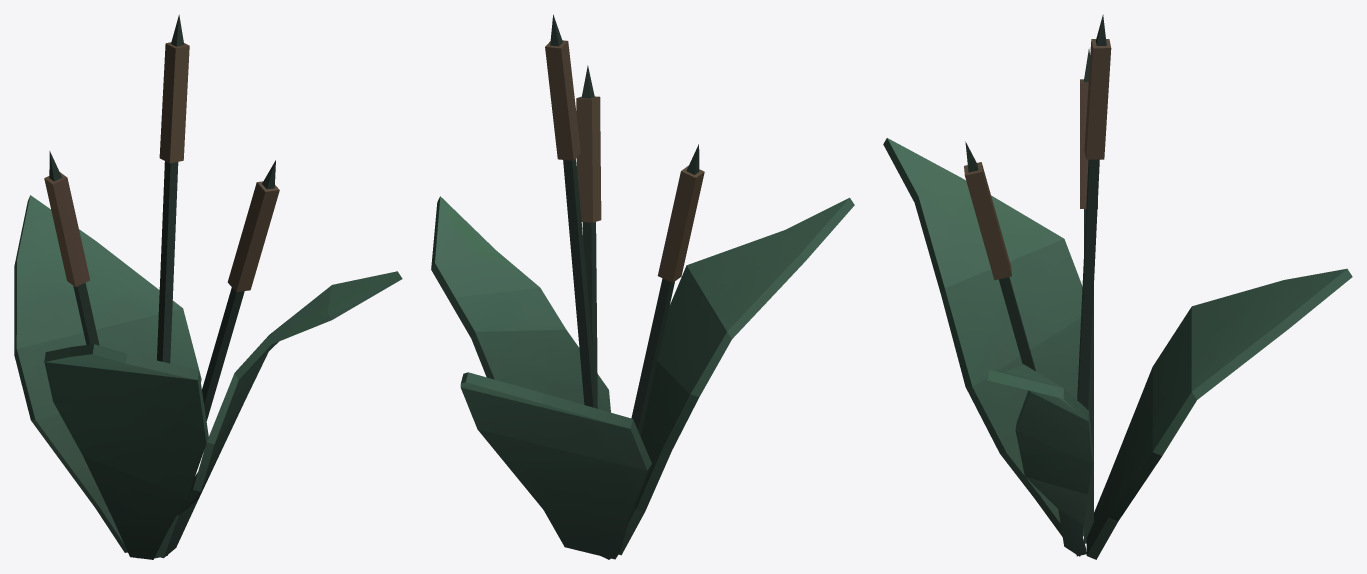
Rendered from SM_Reeds_01.fbx.
3 views of the same model, side by side, from view 1: azimuth 30°, elevation 25°; view 2: azimuth 150°, elevation 25°; view 3: azimuth 270°, elevation 25° (orthographic). The views are drawn at different scales.
Parts seen in each view (by area): view 1: Plane.002; view 2: Plane.002; view 3: Plane.002.
Boxes of the visible parts, bbox=[...] form: Plane.002: bbox=[14, 14, 402, 559]; Plane.002: bbox=[431, 14, 854, 559]; Plane.002: bbox=[883, 14, 1352, 559].
Size of the model in its own units: 132 by 185 by 142.
1 material, 1 textured.
